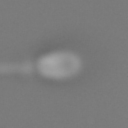normal: (1, 58, 36, 81)
